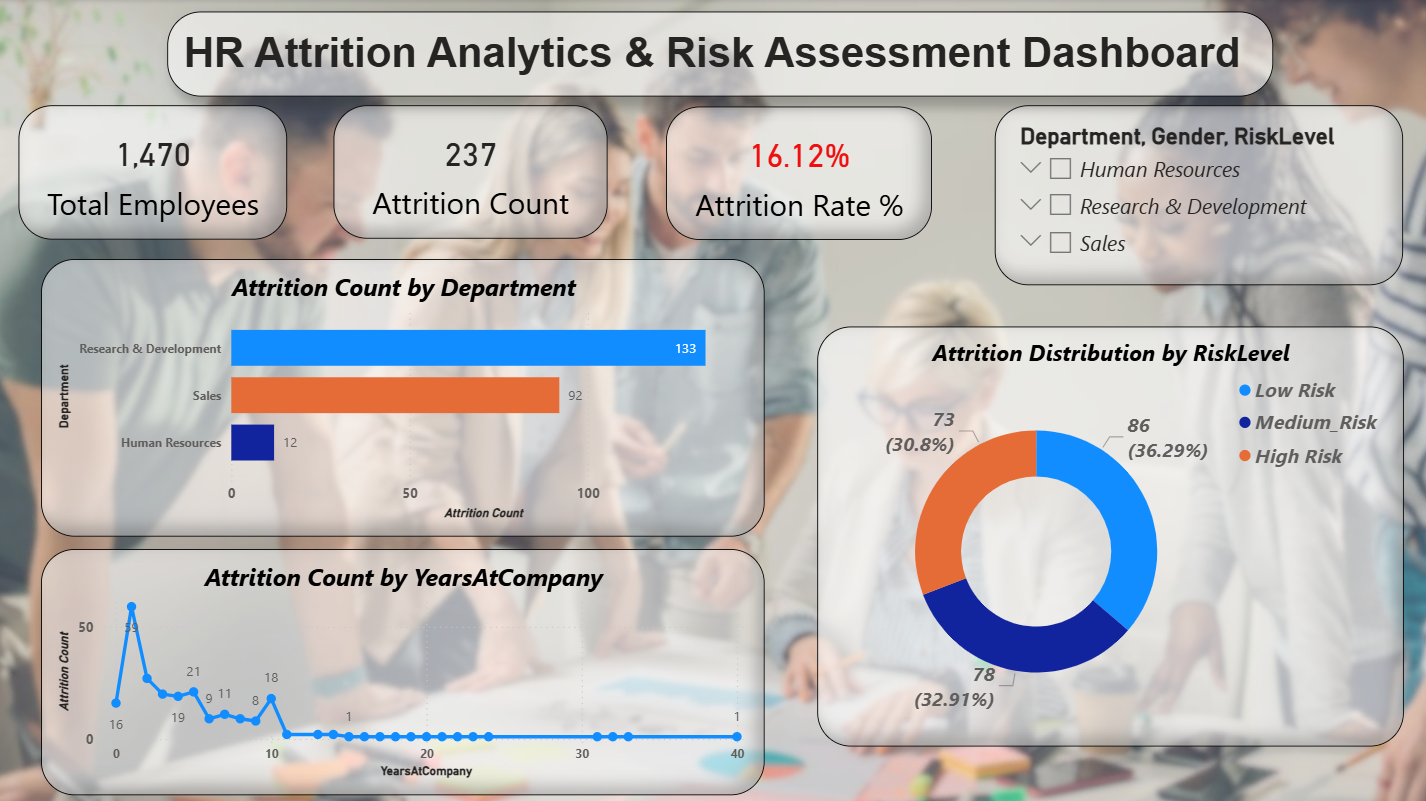

This screenshot's page, from the dashboard's own definition file:
{"tool":"powerbi","page":{"name":"Page 1","canvas":[1280,720],"ordinal":0},"visuals":[{"type":"card","fields":{"Values":["HR_Attrition_Raw_Data.Total Employees"]},"box":[20,95,240,120],"z":0},{"type":"card","fields":{"Values":["HR_Attrition_Raw_Data.Attrition Count"]},"box":[301.5,94.9,244.5,119.5],"z":1000},{"type":"card","fields":{"Values":["HR_Attrition_Raw_Data.Attrition Rate %"]},"box":[598.5,96,237.8,119.5],"z":2000},{"type":"clusteredBarChart","fields":{"Category":["HR_Attrition_Raw_Data.Department"],"Y":["HR_Attrition_Raw_Data.Attrition Count"]},"box":[40.2,232.3,646.5,247.9],"z":3000},{"type":"donutChart","title":"Attrition Distribution by RiskLevel","fields":{"Category":["HR_Attrition_Raw_Data.RiskLevel"],"Y":["HR_Attrition_Raw_Data.Attrition Count"]},"box":[733.6,292.6,523.7,375.2],"z":4000},{"type":"lineChart","fields":{"Category":["HR_Attrition_Raw_Data.YearsAtCompany"],"Y":["HR_Attrition_Raw_Data.Attrition Count"]},"box":[40.2,491.3,646.5,220],"z":5000},{"type":"slicer","fields":{"Values":["HR_Attrition_Raw_Data.Department","HR_Attrition_Raw_Data.Gender","HR_Attrition_Raw_Data.RiskLevel"]},"box":[892.2,94.9,365.1,160.8],"z":6000},{"type":"textbox","box":[153,11.2,988.2,75.9],"z":7000}]}

Visuals, with their boxes in screenshot pixels (x1, y1, x2, y2), scaled from the page's 1280x720 canvas onto the 1426x801 screenshot:
card - HR_Attrition_Raw_Data.Total Employees: {"x1": 22, "y1": 106, "x2": 290, "y2": 239}
card - HR_Attrition_Raw_Data.Attrition Count: {"x1": 336, "y1": 106, "x2": 608, "y2": 239}
card - HR_Attrition_Raw_Data.Attrition Rate %: {"x1": 667, "y1": 107, "x2": 932, "y2": 240}
clusteredBarChart - HR_Attrition_Raw_Data.Department x HR_Attrition_Raw_Data.Attrition Count: {"x1": 45, "y1": 258, "x2": 765, "y2": 534}
"Attrition Distribution by RiskLevel" donutChart: {"x1": 817, "y1": 326, "x2": 1401, "y2": 743}
lineChart - HR_Attrition_Raw_Data.YearsAtCompany x HR_Attrition_Raw_Data.Attrition Count: {"x1": 45, "y1": 547, "x2": 765, "y2": 791}
slicer - HR_Attrition_Raw_Data.Department x HR_Attrition_Raw_Data.Gender: {"x1": 994, "y1": 106, "x2": 1401, "y2": 284}
textbox: {"x1": 170, "y1": 12, "x2": 1271, "y2": 97}
